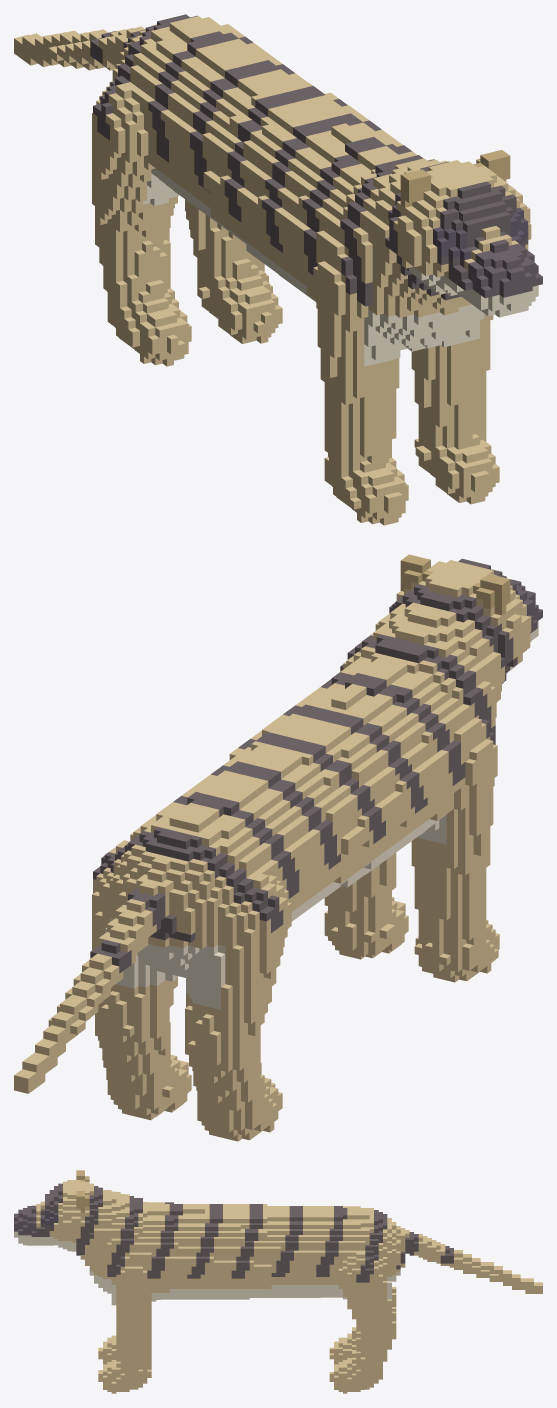
File: tiger.glb
The picture shows the model from 3 angles, top to bottom: view 1: azimuth 30°, elevation 25°; view 2: azimuth 150°, elevation 25°; view 3: azimuth 270°, elevation 25°; orthographic projection. The views are drawn at different scales.
Parts seen in each view (by area): view 1: item; view 2: item; view 3: item.
Part boxes in pixels (box(x1,y1,x2,y2)): item: box(14, 14, 542, 525); item: box(14, 554, 542, 1141); item: box(14, 1170, 542, 1393).
Size of the model in its own units: 24 by 48 by 119.
